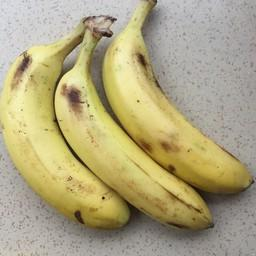Good_banana: (58, 37, 207, 248), (3, 18, 126, 238), (115, 4, 252, 195)
